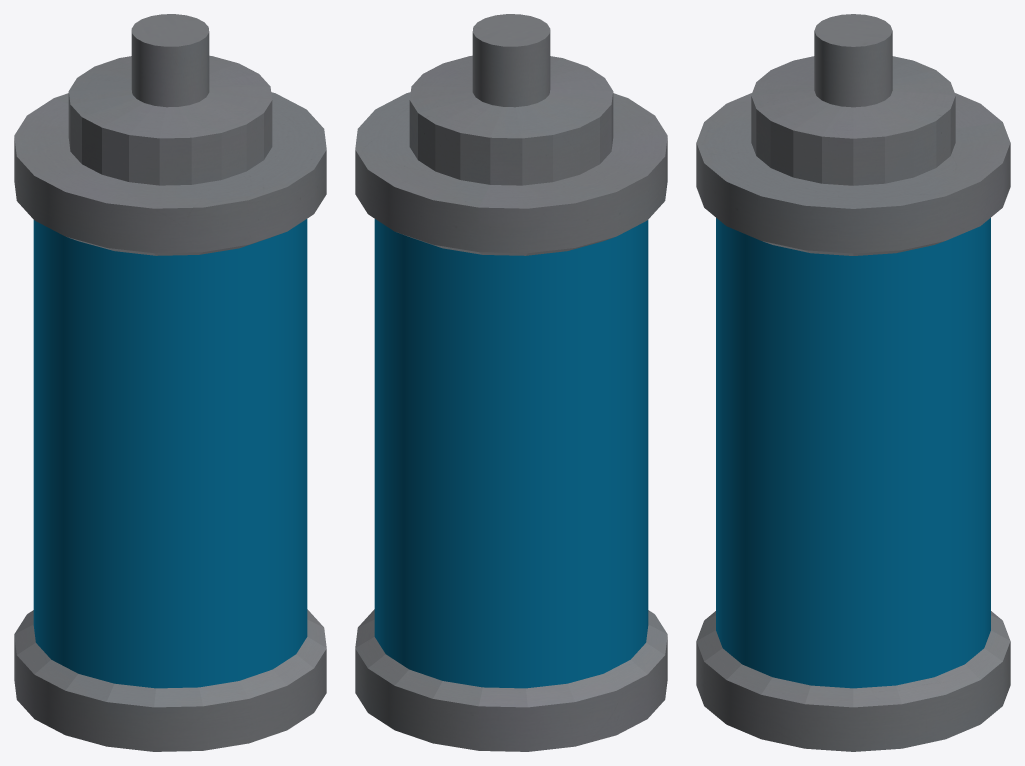
The model's file is Ammo 1.fbx.
3 renders of one model, left to right at view 1: azimuth 30°, elevation 25°; view 2: azimuth 150°, elevation 25°; view 3: azimuth 270°, elevation 25°, orthographic.
Parts seen in each view (by area): view 1: pCylinder3; view 2: pCylinder3; view 3: pCylinder3.
Boxes of the visible parts, left/top/right/bottom form: pCylinder3: left=14, top=14, right=326, bottom=751; pCylinder3: left=355, top=14, right=667, bottom=751; pCylinder3: left=696, top=14, right=1010, bottom=751.
Bounding box in the file's own units: 1.68 × 3.86 × 1.68.
2 materials, 1 textured.
